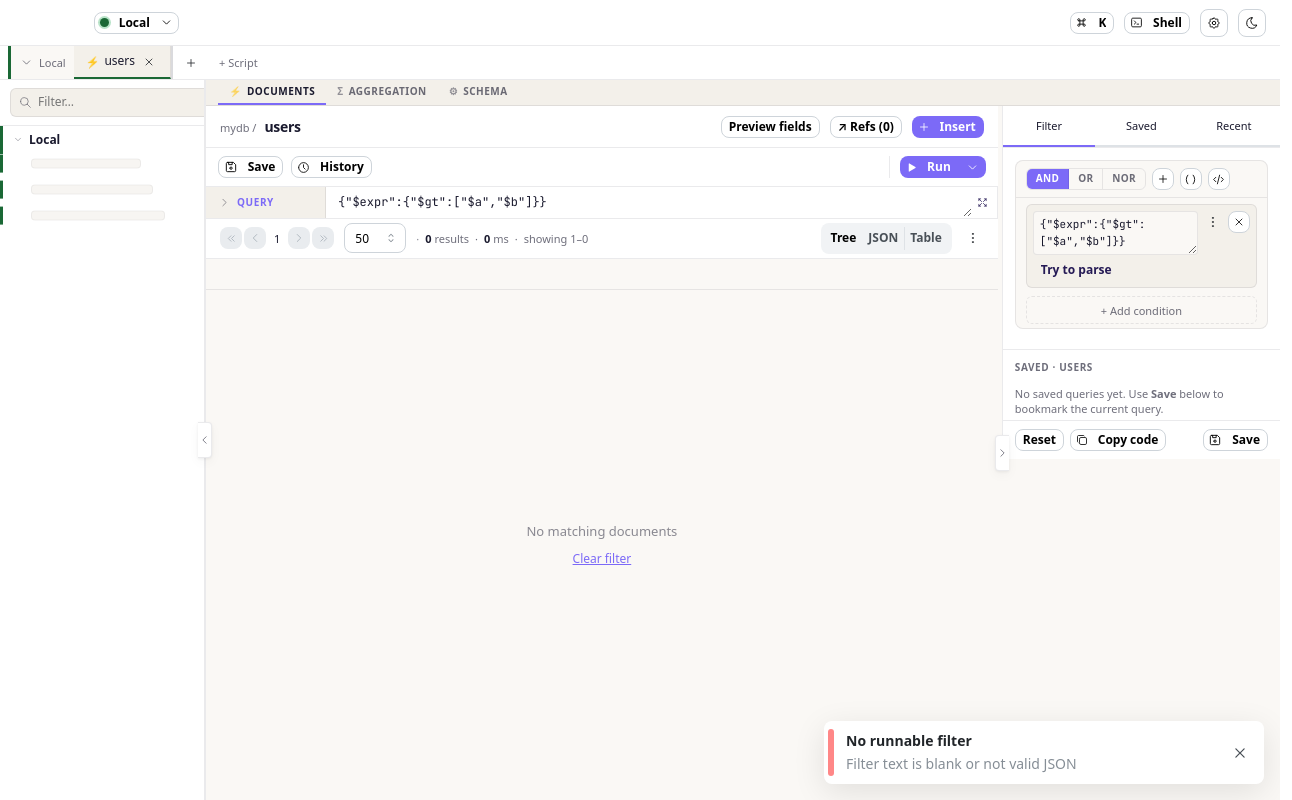
it: builder edits do not clobber a hand-edited filter › a drawer edit leaves the hand-written filter in the bar
What coordinates should you click on to do the following:
click the button named "Add condition"
I would click on:
 (1163, 179)
Its box is [1152, 168, 1174, 190].
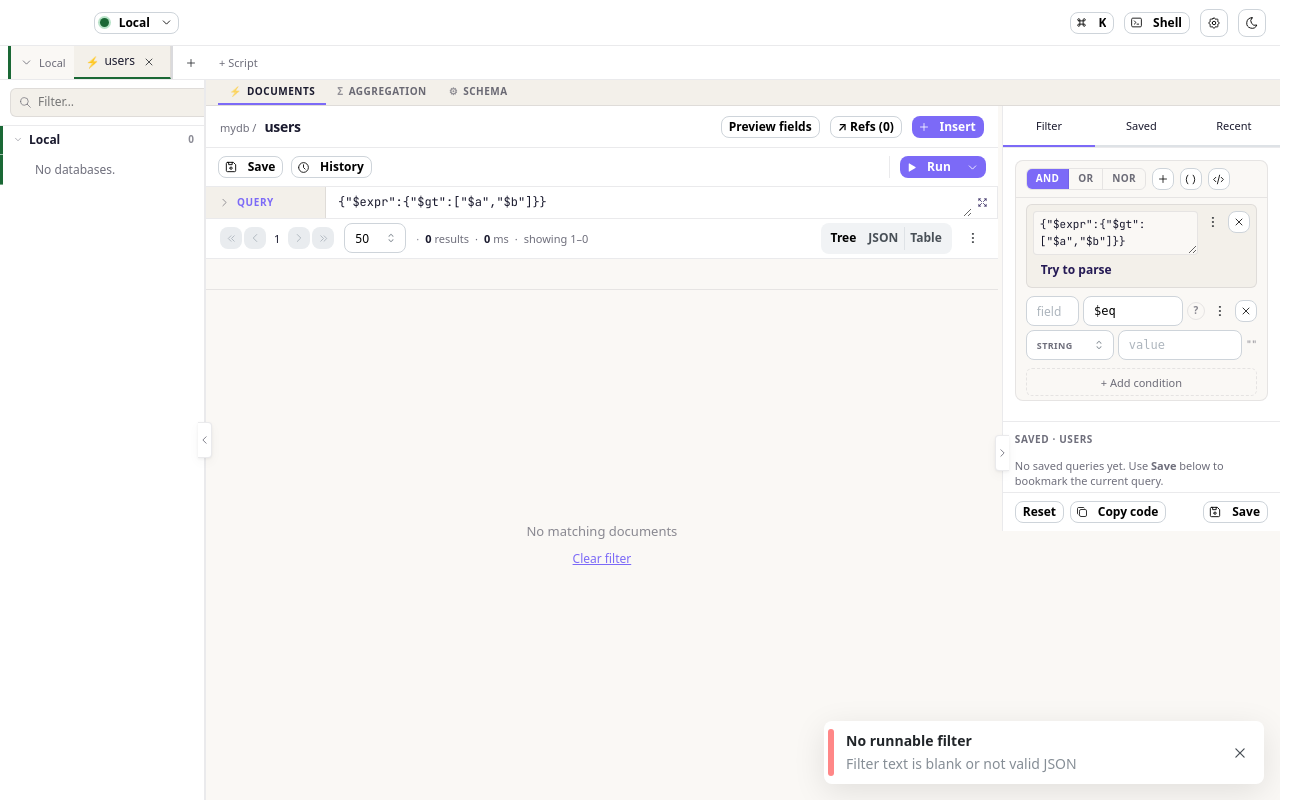
Expected: the text box with test id "query-bar-input" holds "{\"$expr\":{\"$gt\":[\"$a\",\"$b\"]}}", [330, 187, 972, 218]
Now the field with placeholder "field" is shown, box [1026, 296, 1079, 326]
